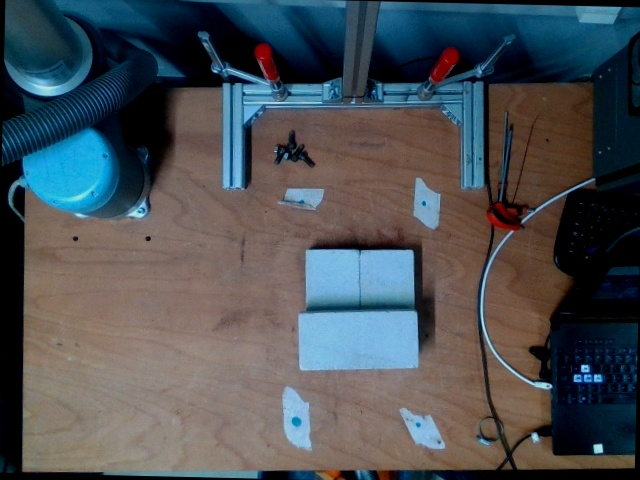brick: (299, 311, 419, 370)
